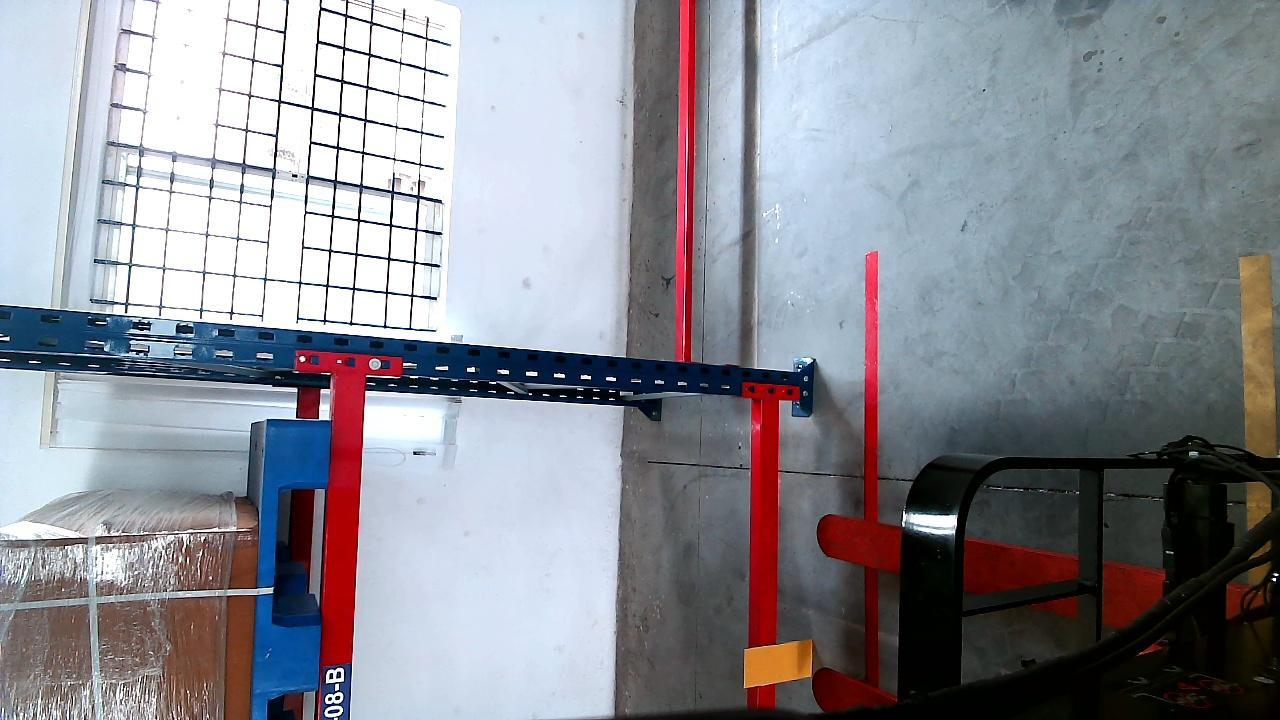red_line: (860, 245, 883, 690)
yellow_line: (1241, 248, 1277, 459)
